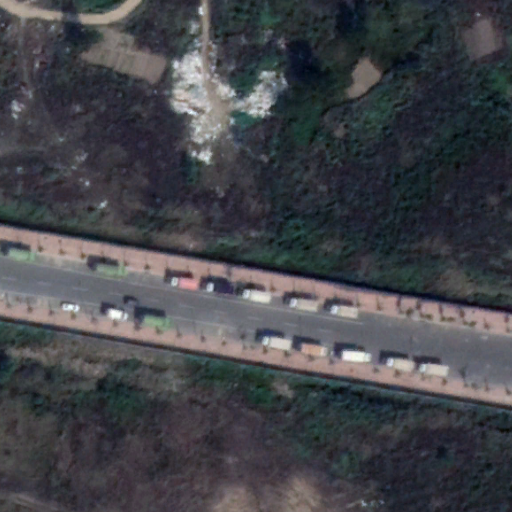msw: (171, 49, 289, 161)
